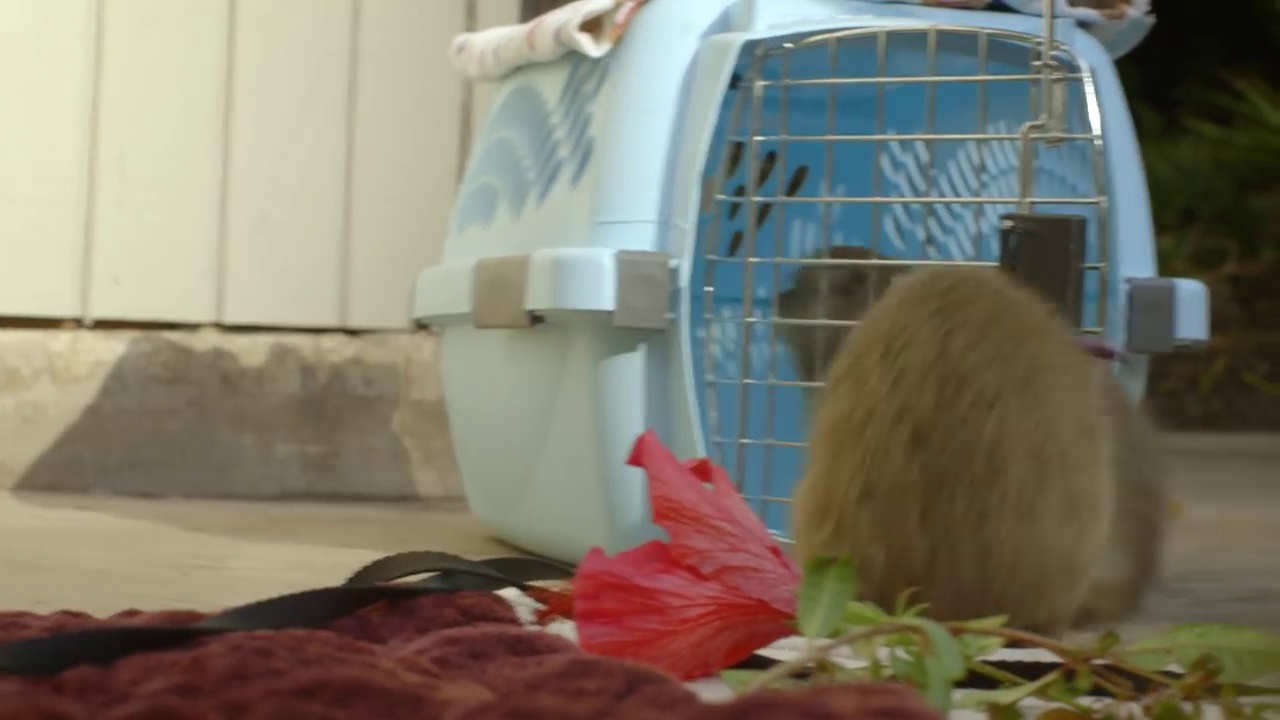Rock Hyrex: (743, 221, 1166, 617)
